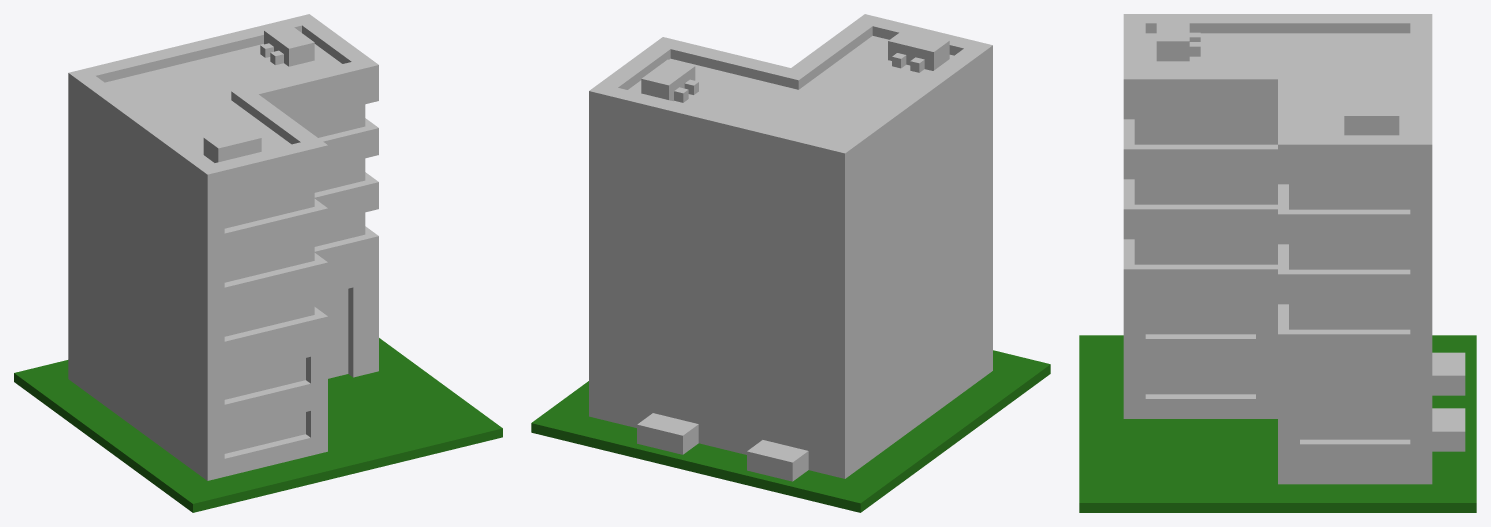
The picture shows the model from 3 angles, left to right: view 1: azimuth 30°, elevation 25°; view 2: azimuth 150°, elevation 25°; view 3: azimuth 270°, elevation 25°; orthographic projection. The views are drawn at different scales.
Parts seen in each view (by area): view 1: building_2; view 2: building_2; view 3: building_2.
Boxes of the visible parts, <box> form: building_2: <box>14,14,502,512</box>; building_2: <box>531,14,1050,512</box>; building_2: <box>1079,14,1476,512</box>.
Size of the model in its own units: 9 by 9 by 9.
